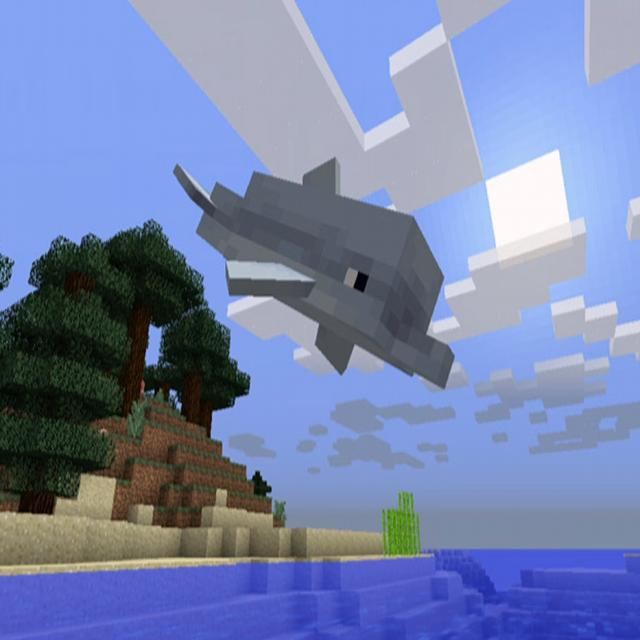Dolphin: (168, 153, 456, 392)
